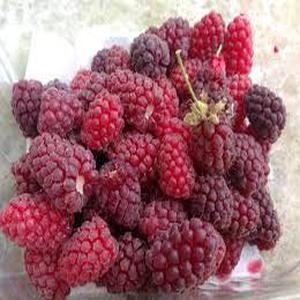raspb: (3, 64, 299, 284)
